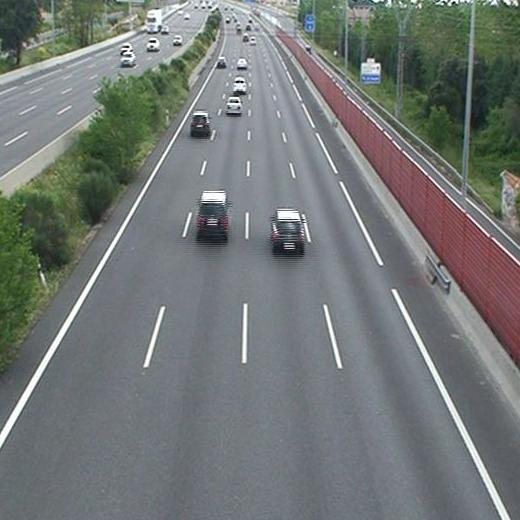car: (197, 191, 229, 234), (271, 209, 303, 250), (190, 113, 210, 134), (226, 98, 242, 113), (233, 77, 246, 92), (237, 58, 247, 68), (216, 58, 226, 68)
